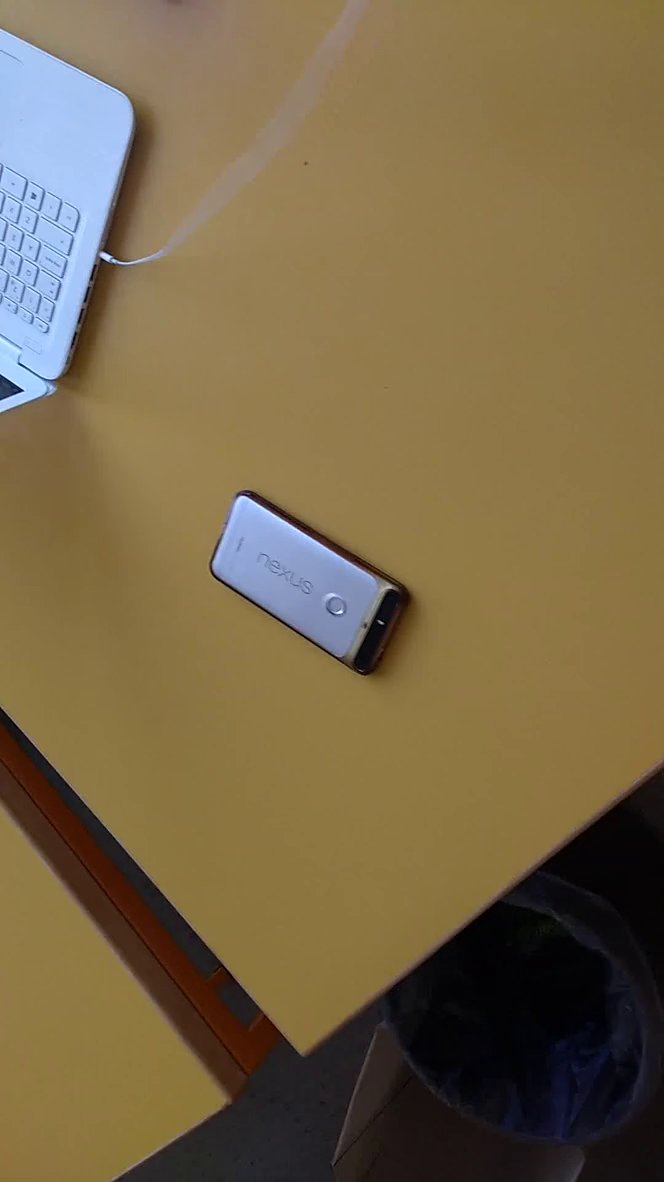phone: (202, 483, 436, 697)
